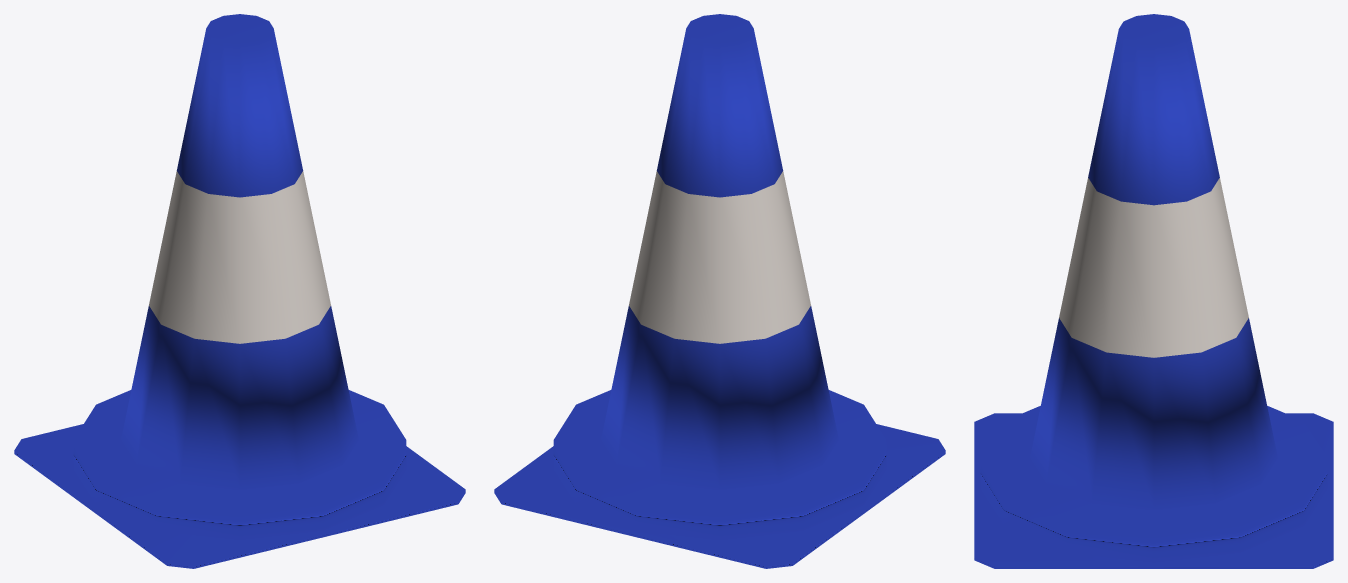
The model's file is ugrdv_cone_blue.fbx.
The picture shows the model from 3 angles, left to right: view 1: azimuth 30°, elevation 25°; view 2: azimuth 150°, elevation 25°; view 3: azimuth 270°, elevation 25°; orthographic projection. The views are drawn at different scales.
Parts seen in each view (by area): view 1: Blue Low Poly; view 2: Blue Low Poly; view 3: Blue Low Poly.
Part boxes in pixels (x1=…): Blue Low Poly: x1=14, y1=14, x2=465, y2=568; Blue Low Poly: x1=494, y1=14, x2=945, y2=568; Blue Low Poly: x1=974, y1=14, x2=1333, y2=568.
Bounding box in the file's own units: 22.8 × 32.51 × 22.8.
